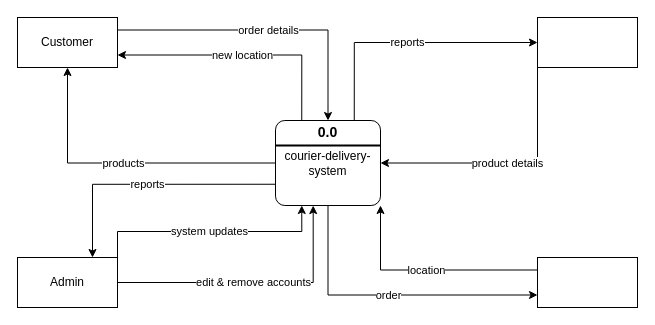
Image size: 655x325. Some labels were removed from this diagram. The shapes that lost their labels are listed below. From the top down, each one's box as (x1, y1, x2, y2) in pixels, then its label:
(536, 16, 638, 68): Service-offeror
(536, 256, 638, 308): Delivery-agent
